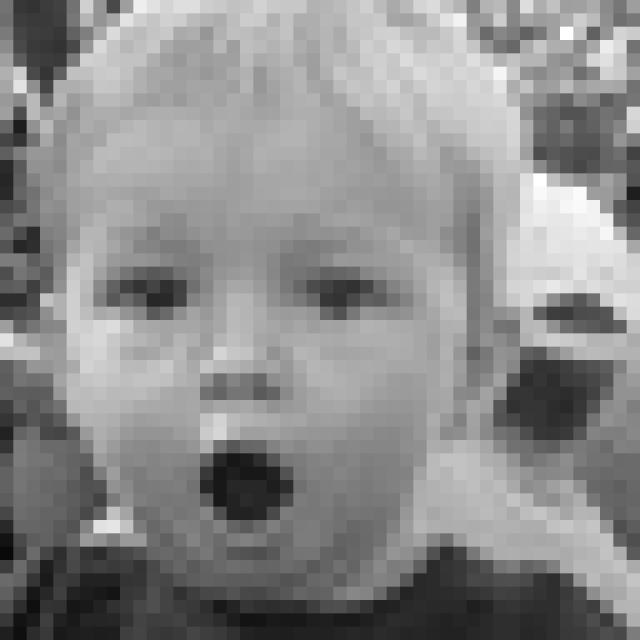surprise: (86, 213, 410, 554)
